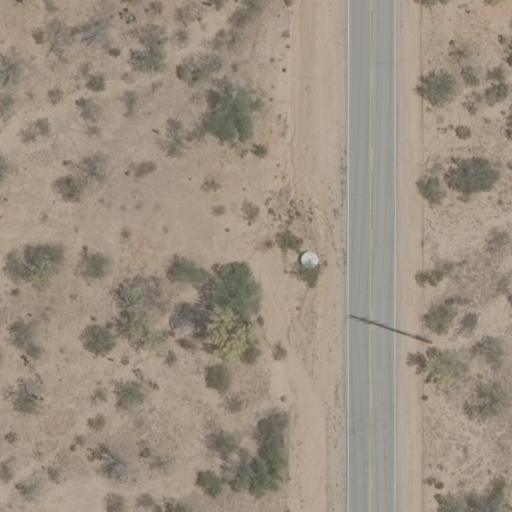DT: (410, 328, 437, 348)
